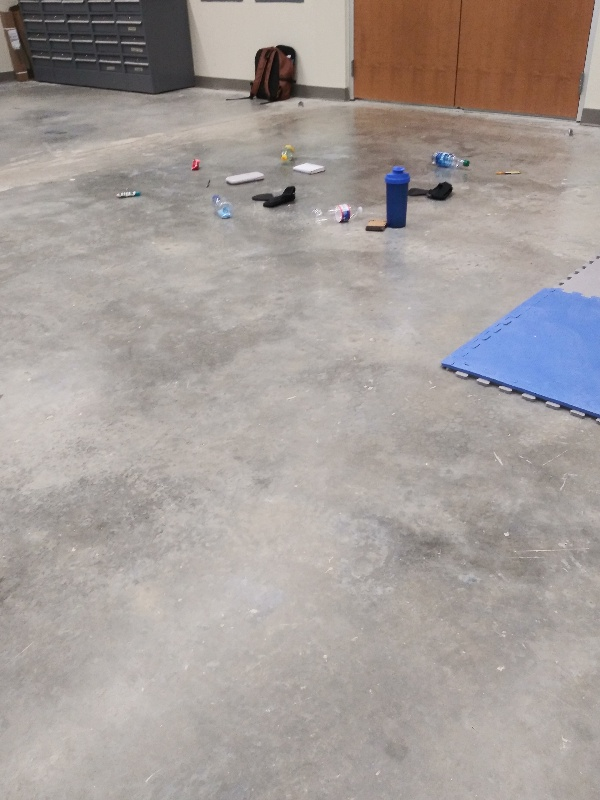bottle: (307, 200, 366, 227), (429, 150, 473, 174), (207, 189, 234, 219), (277, 141, 296, 166)
